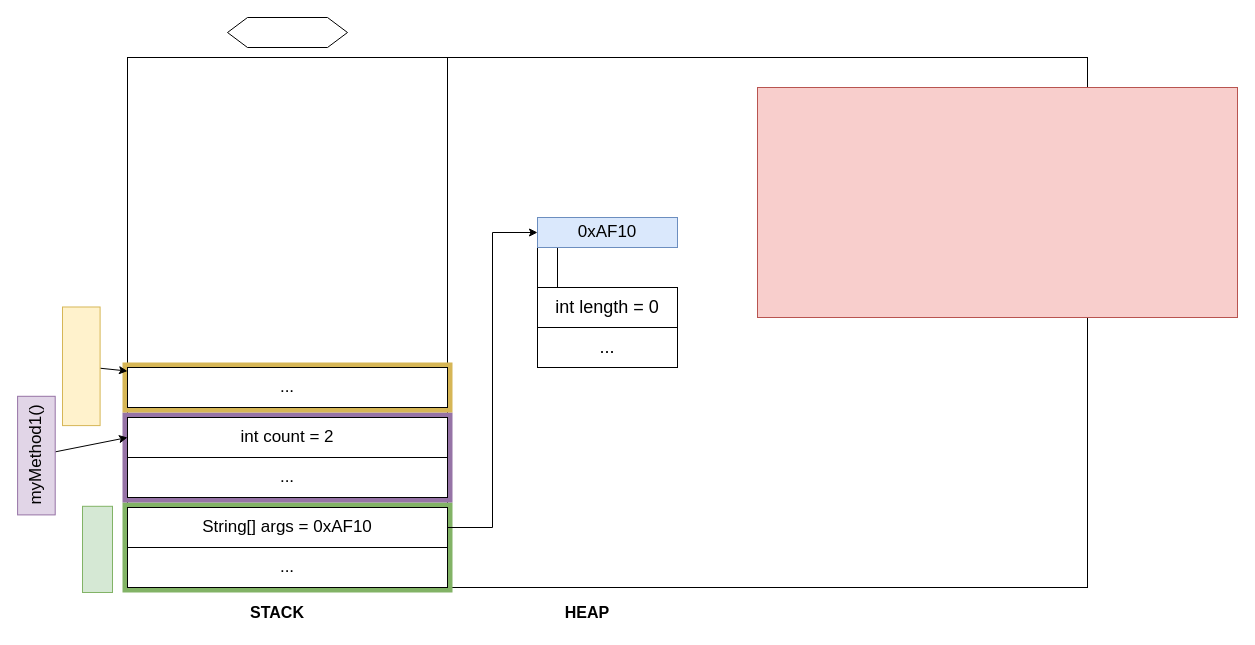
This 1255x645 diagram has some shape labels left out. Here are the shapes that lost their labels. From the top down, the centre of each, then its label:
At (x=287, y=32): "main thread".
At (x=997, y=202): "I am in the main method() I am in the myMethod1() I am in the myMethod2()".
At (x=81, y=366): "myMethod2".
At (x=97, y=548): "main()".
